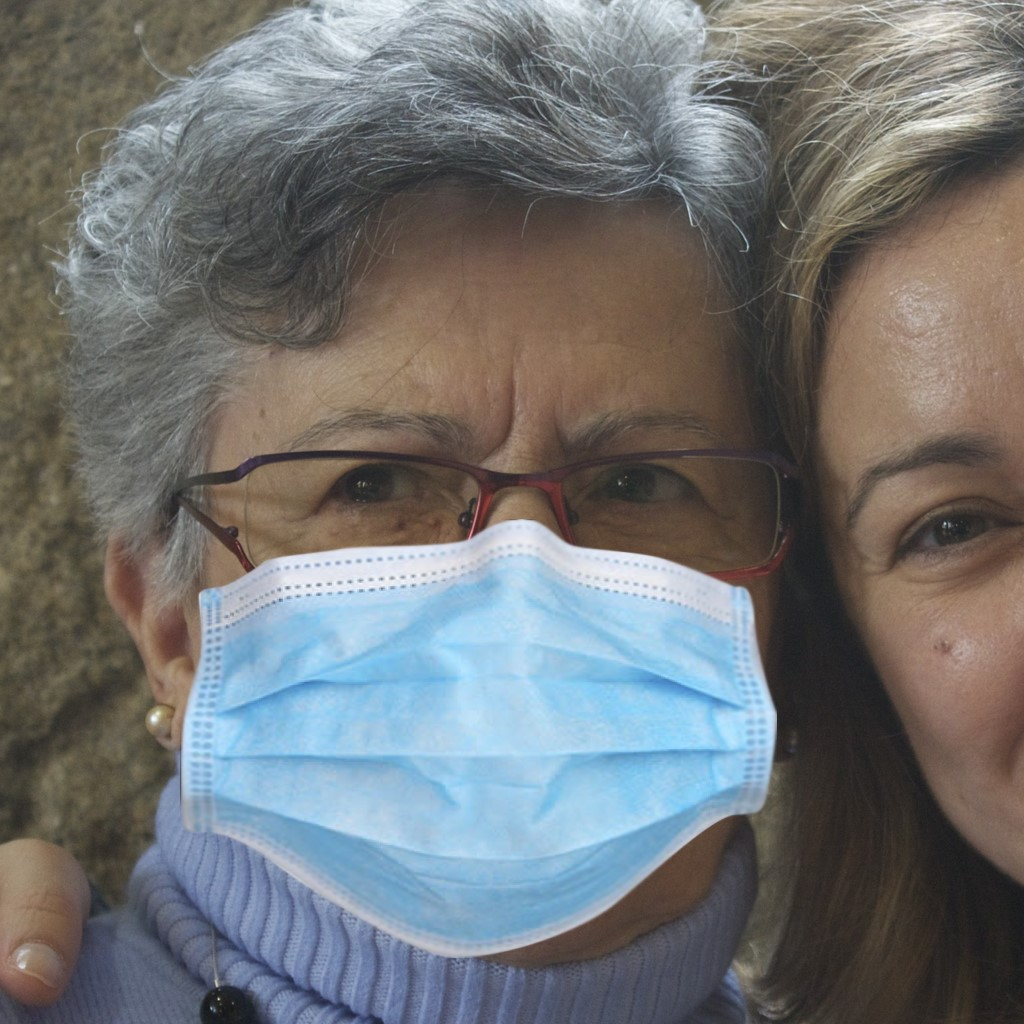con_mascara: (99, 116, 808, 981)
